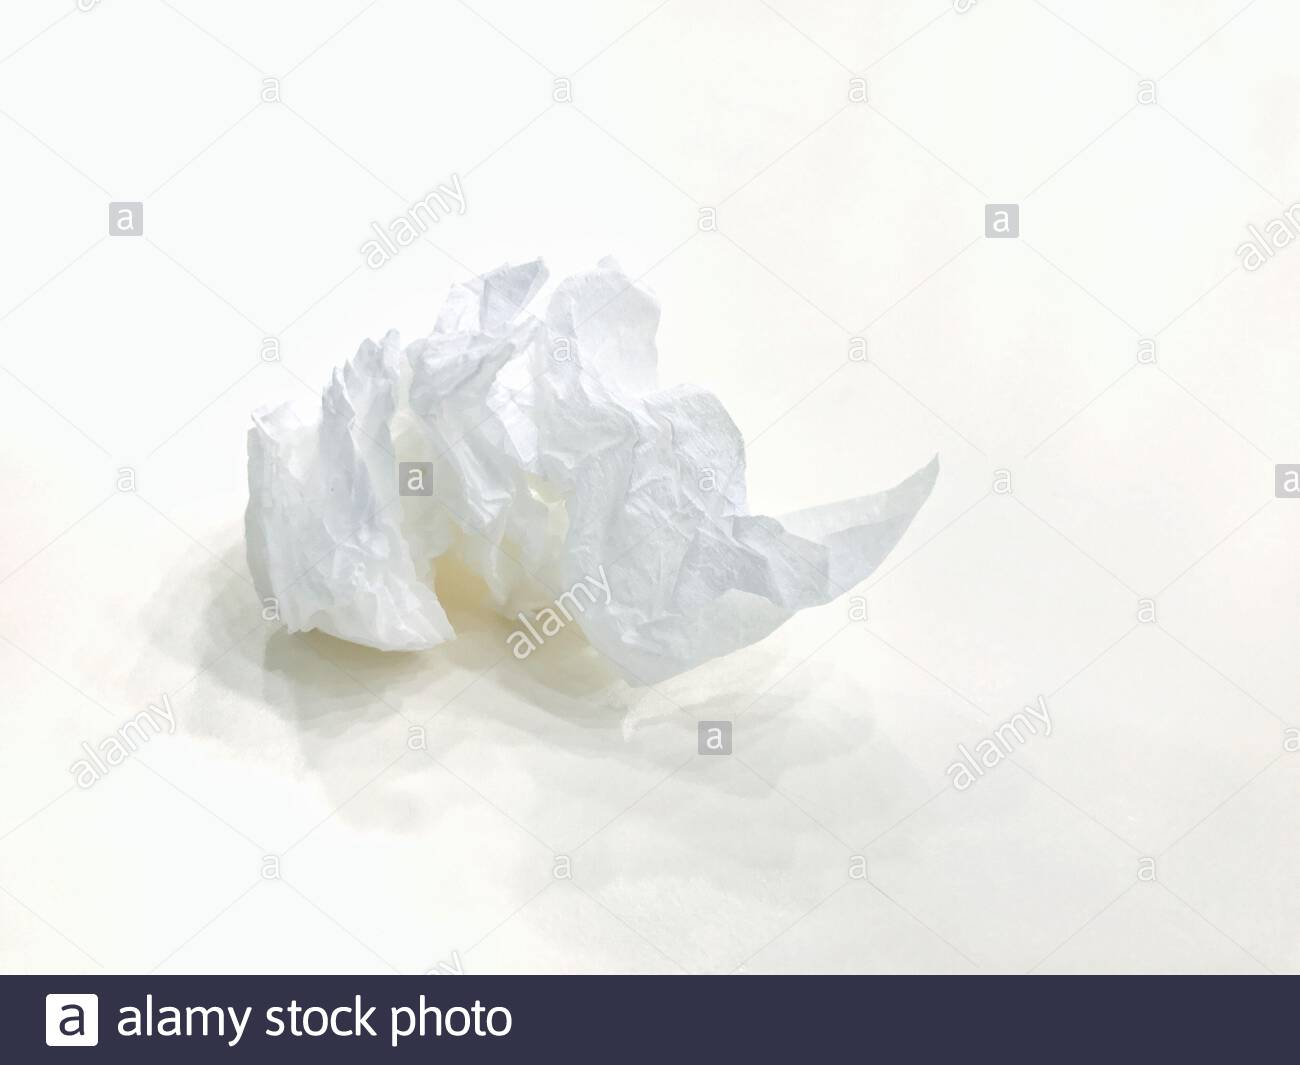Tissue: (226, 248, 944, 737)
